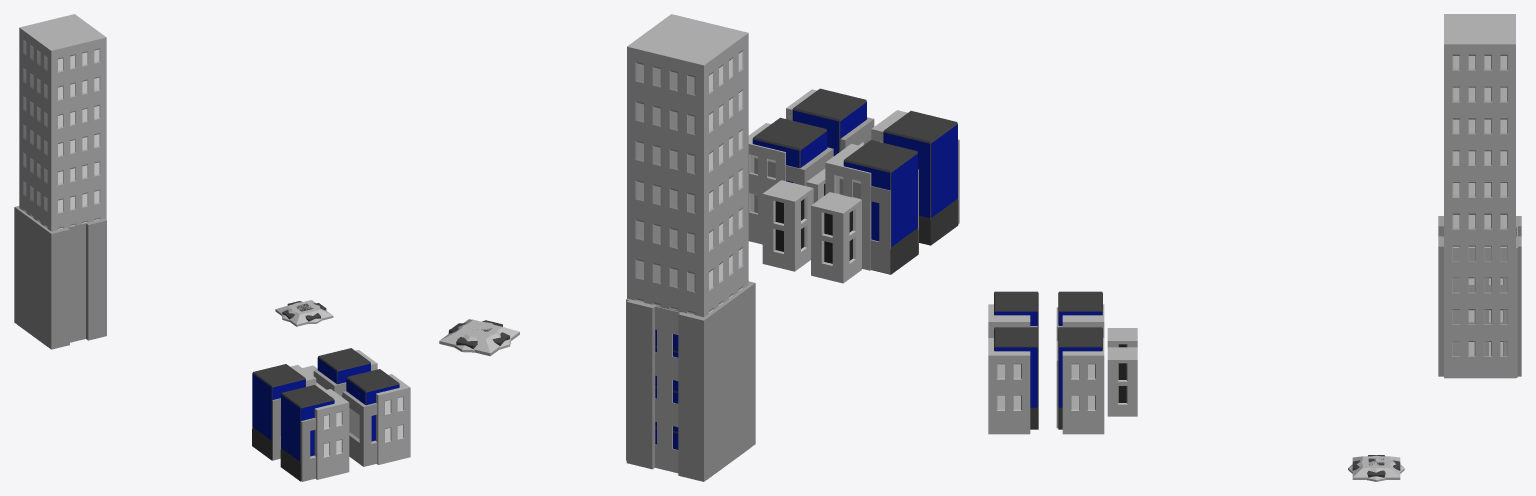
Rendered from BaseBlank.fbx.
3 renders of one model, left to right at view 1: azimuth 30°, elevation 25°; view 2: azimuth 150°, elevation 25°; view 3: azimuth 270°, elevation 25°, orthographic. The views are drawn at different scales.
Parts seen in each view (by area): view 1: Cube.013, Cube.010, Cube.006, Cube.012, Cube.007, Cube.017; view 2: Cube.013, Cube.010, Cube.006, Cube.018, Cube.012, Cube.007, Cube.016, Cube.017, Cube.014, Cube.008; view 3: Cube.013, Cube.012, Cube.006, Cube.018, Cube.016, Cube.010.
Part boxes in pixels (x1,y1,x2,y2): Cube.013: [19, 14, 106, 231]; Cube.010: [14, 206, 106, 349]; Cube.006: [252, 348, 399, 481]; Cube.012: [290, 350, 410, 479]; Cube.007: [272, 369, 377, 481]; Cube.017: [275, 300, 333, 326]; Cube.013: [627, 14, 748, 317]; Cube.010: [626, 281, 755, 481]; Cube.006: [752, 88, 958, 274]; Cube.018: [762, 168, 861, 283]; Cube.012: [748, 89, 907, 270]; Cube.007: [754, 117, 959, 274]; Cube.016: [626, 299, 680, 473]; Cube.017: [439, 319, 519, 356]; Cube.014: [448, 321, 510, 352]; Cube.008: [655, 306, 748, 479]; Cube.013: [1444, 14, 1515, 378]; Cube.012: [988, 304, 1104, 434]; Cube.006: [994, 291, 1102, 429]; Cube.018: [1107, 328, 1137, 416]; Cube.016: [1452, 226, 1517, 377]; Cube.010: [1438, 216, 1521, 376].
Size of what is drawn, in the model's own units: 447 by 513 by 742.
